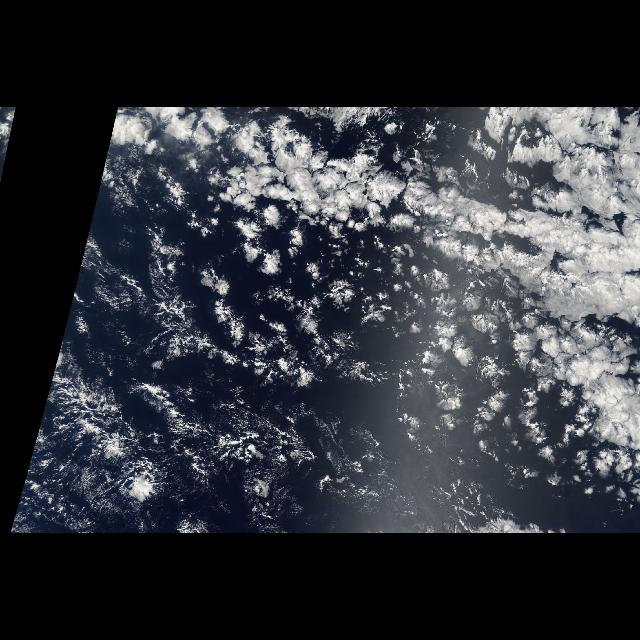Flower: (109, 112, 531, 266), (395, 269, 635, 496)
Gravel: (18, 404, 396, 534), (88, 211, 364, 385)
